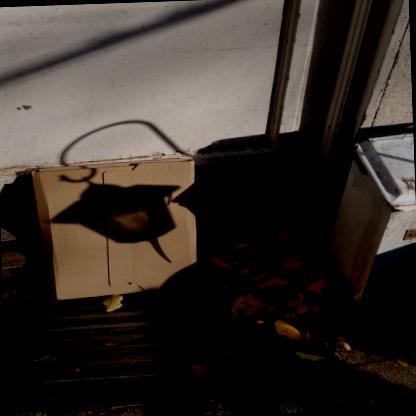box: (32, 155, 201, 302)
